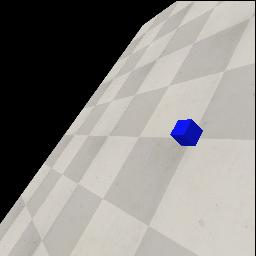box: (170, 119, 203, 146)
